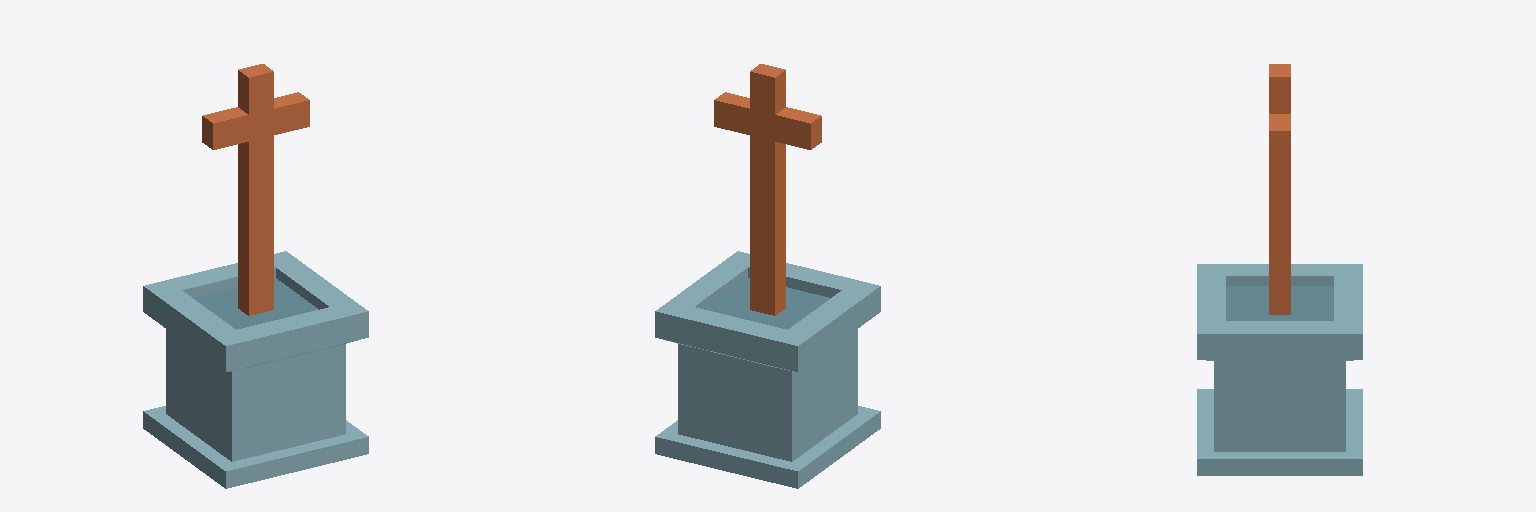
File: crossWood.obj
3 views of the same model, side by side, from view 1: azimuth 30°, elevation 25°; view 2: azimuth 150°, elevation 25°; view 3: azimuth 270°, elevation 25° (orthographic).
Visible parts, largest first — view 1: crossWood; view 2: crossWood; view 3: crossWood.
Boxes of the visible parts, x1,y1,x2,y2 form: crossWood: [143, 64, 368, 488]; crossWood: [655, 64, 880, 488]; crossWood: [1197, 64, 1362, 475].
Bounding box in the file's own units: 0.43 × 1.06 × 0.43.